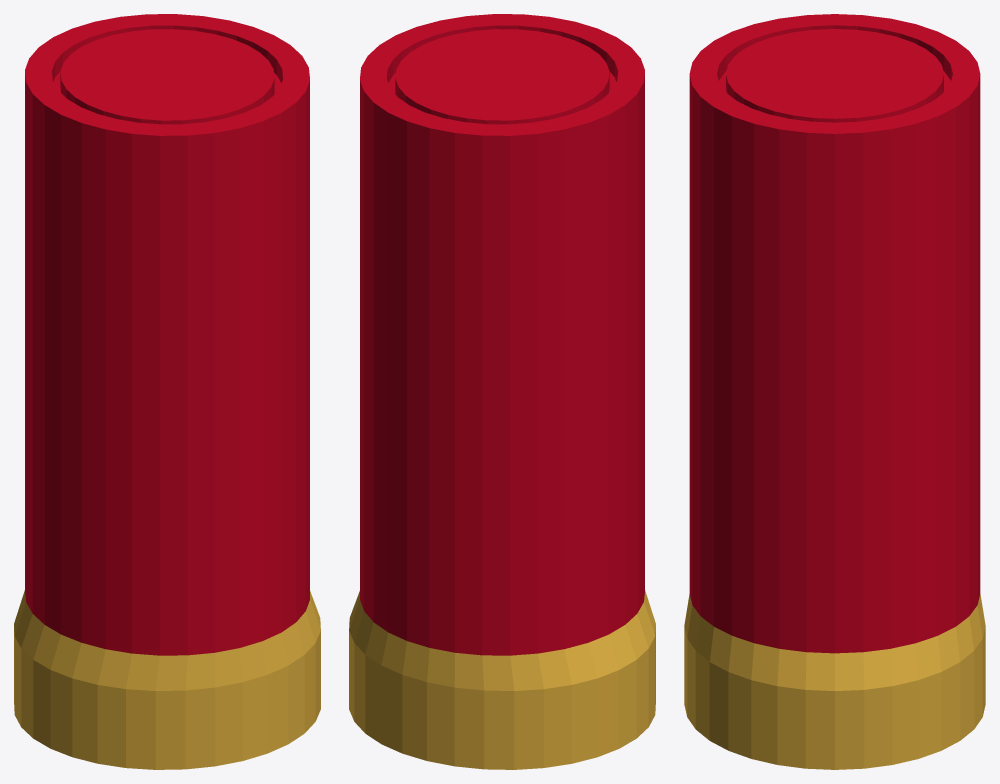
Rendered from патрон_красный.fbx.
3 views of the same model, side by side, from view 1: azimuth 30°, elevation 25°; view 2: azimuth 150°, elevation 25°; view 3: azimuth 270°, elevation 25° (orthographic).
Parts seen in each view (by area): view 1: Cylinder; view 2: Cylinder; view 3: Cylinder.
Part boxes in pixels (<box>): Cylinder: <box>14,14,320,769</box>; Cylinder: <box>349,14,655,769</box>; Cylinder: <box>684,14,985,769</box>.
Size of the model in its own units: 19.35 by 43.48 by 18.83.
